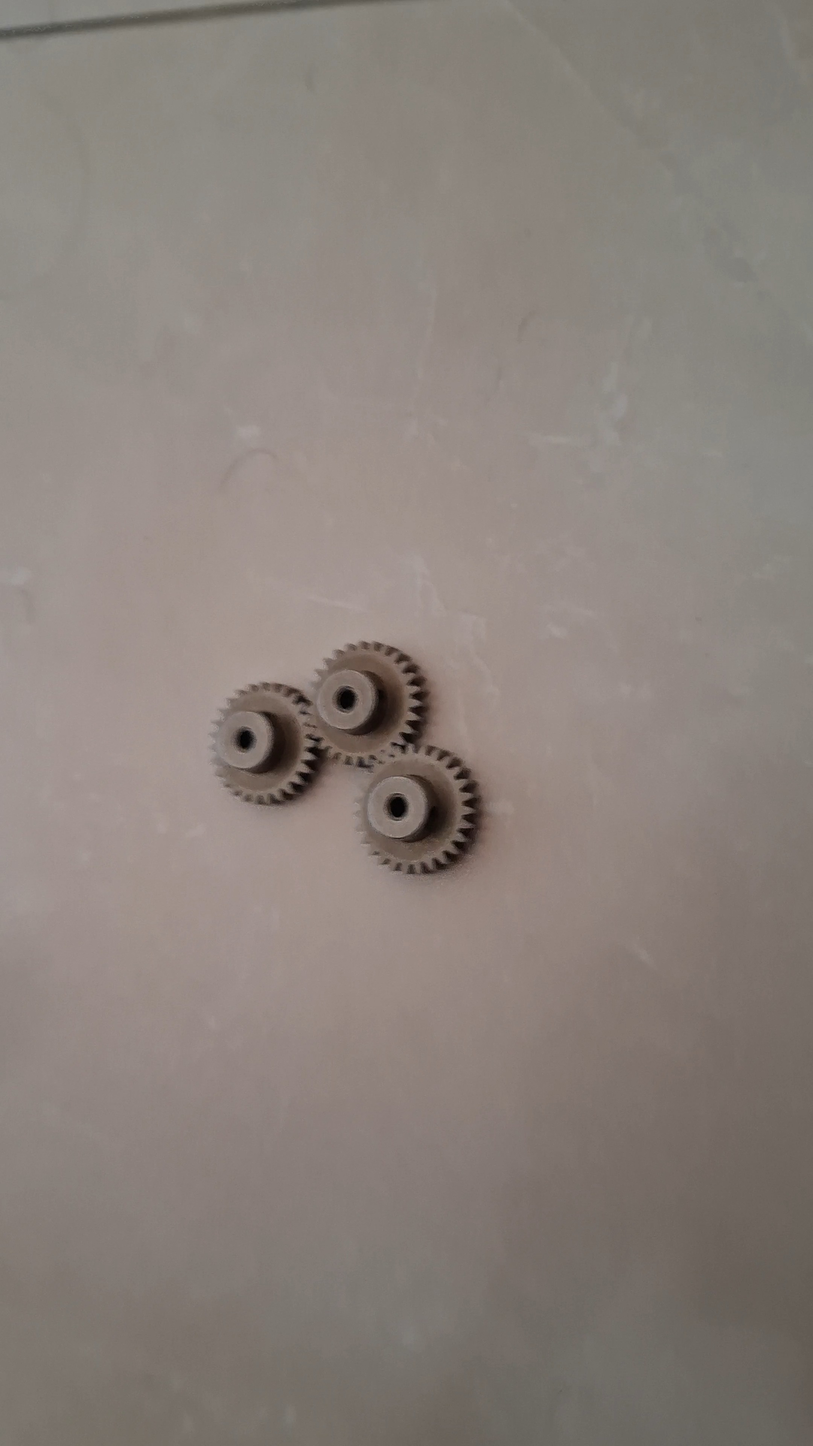spur gear: (359, 746, 477, 874), (313, 642, 425, 766), (212, 684, 320, 804)
